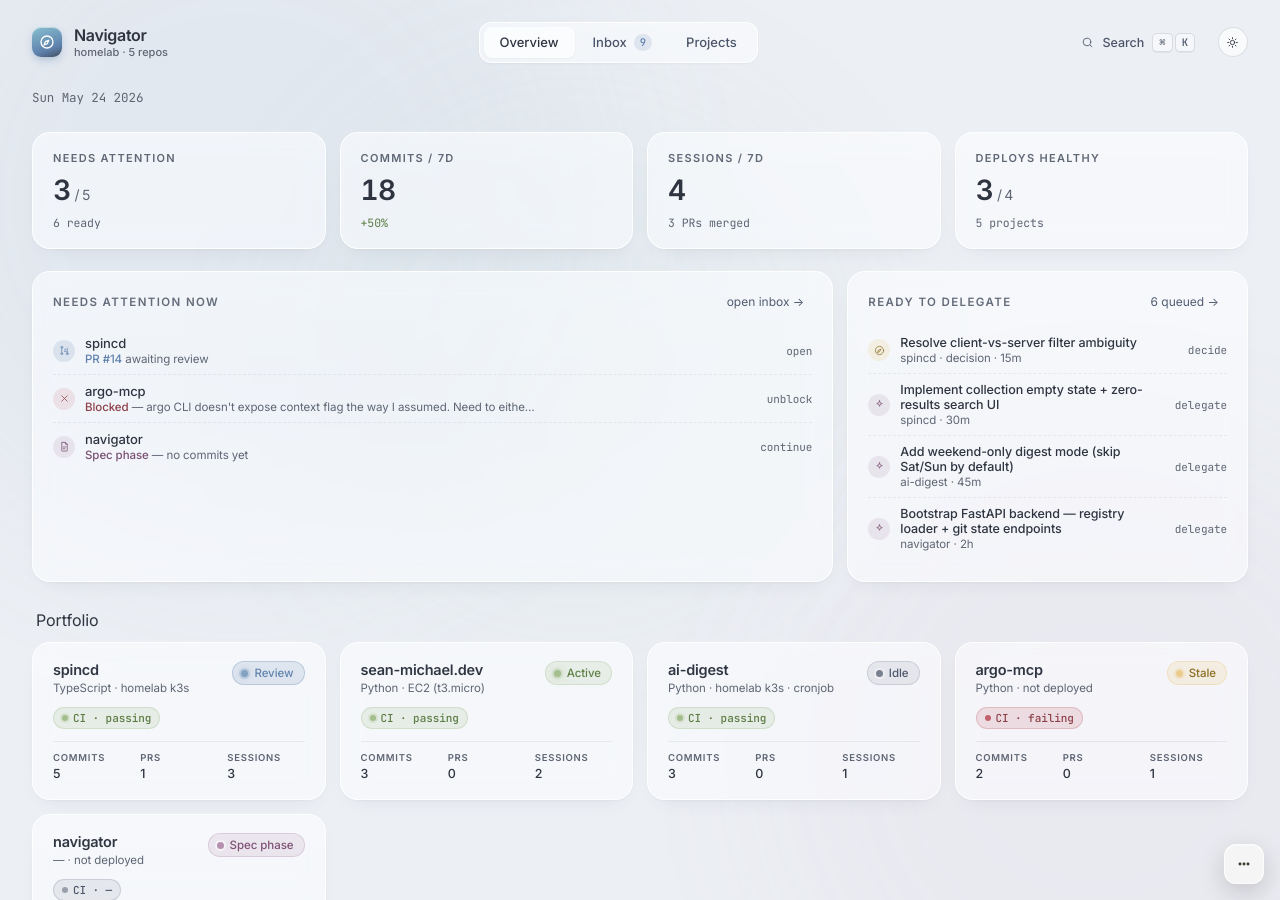
Test: App › opens the command palette with Cmd+K
This screenshot has width=1280, height=900.
Type keys "{Meta>}k{/Meta}"
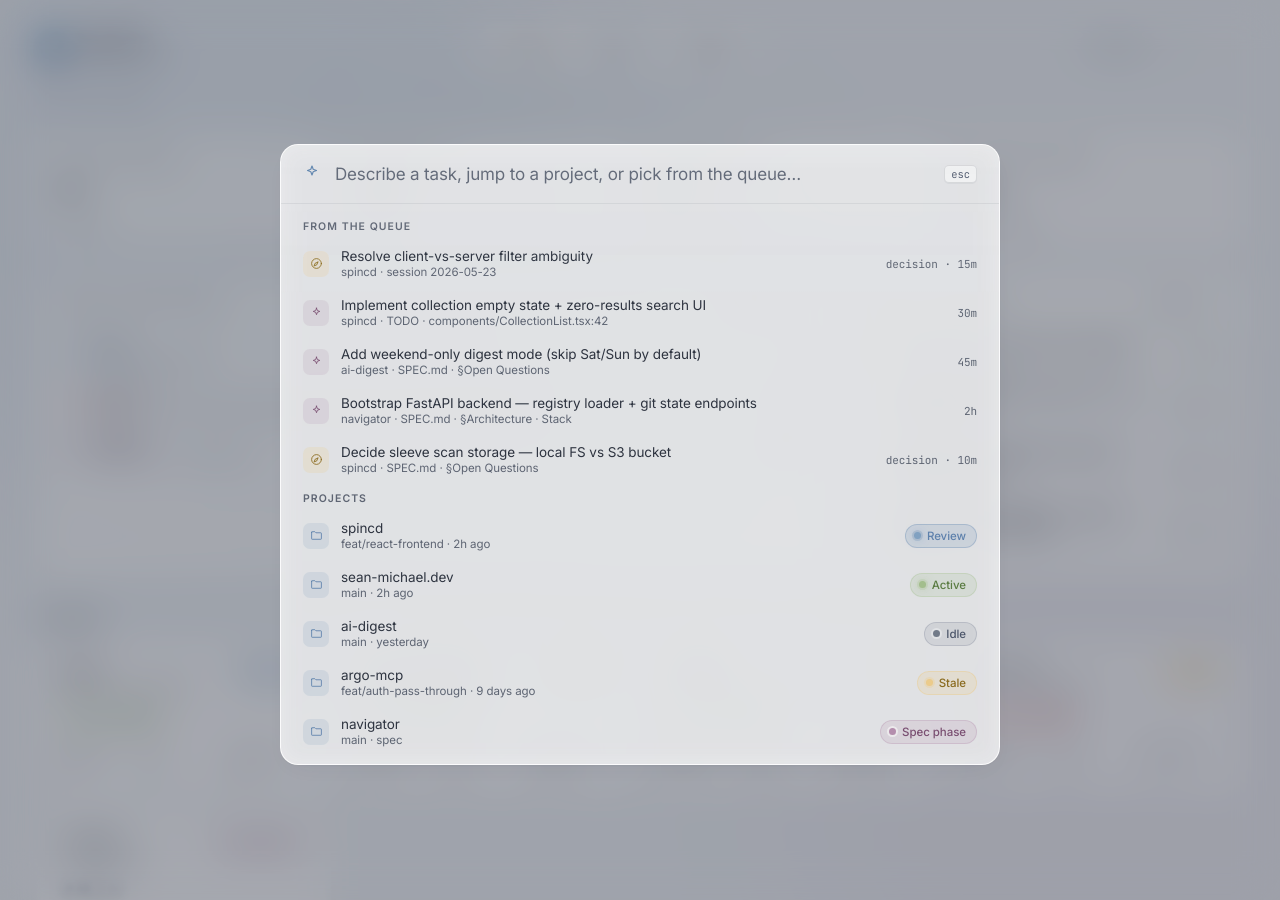
Check: the field with placeholder "Describe a task, jump to a project, or pick from the queue…" is shown
# delegating a task opens the enriched preview modal
Type "add label filtering to search" into the field with placeholder "Describe a task, jump to a project, or pick from the queue…".
click(633, 174); type("add label filtering to search")  # box [333,163,932,185]
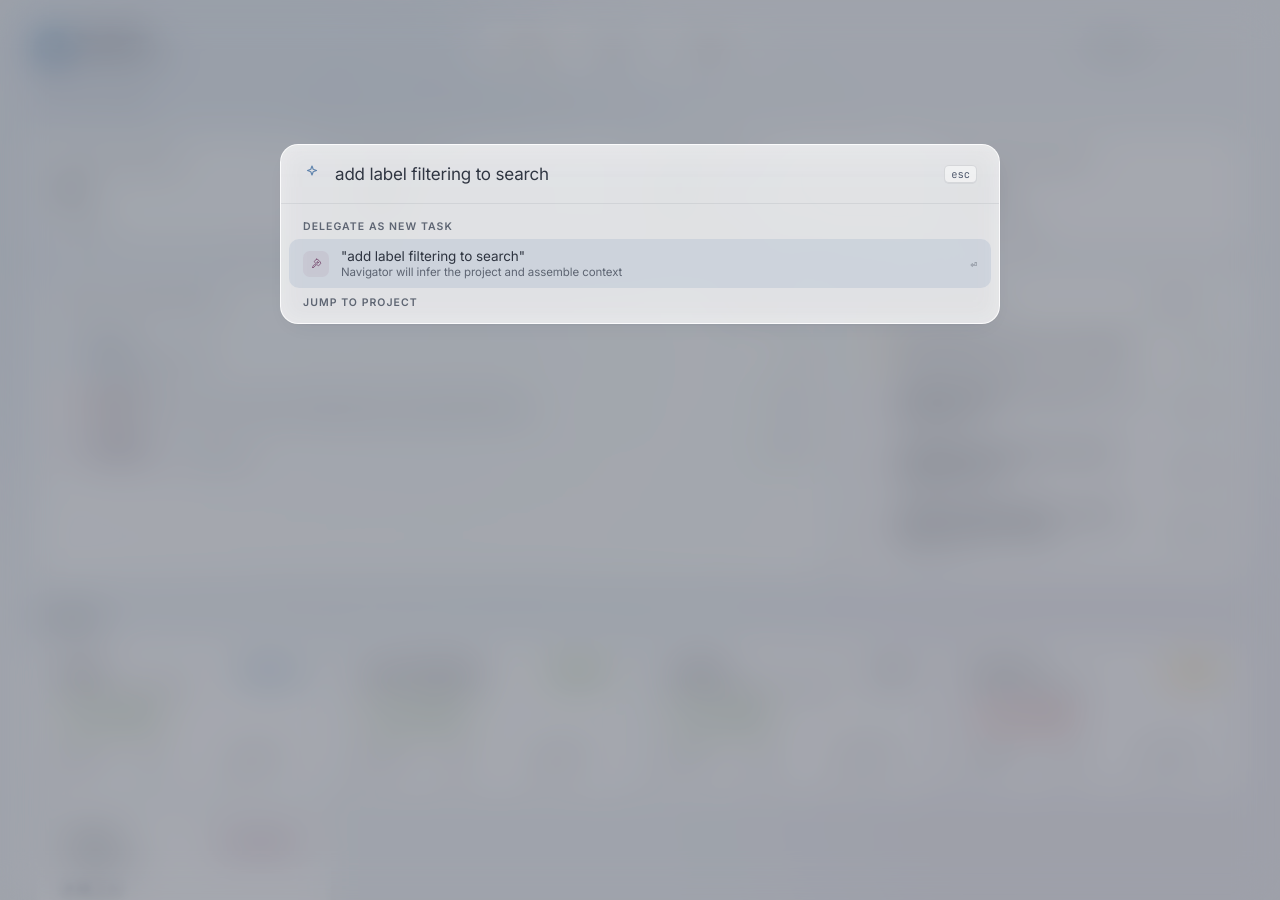
Press Enter
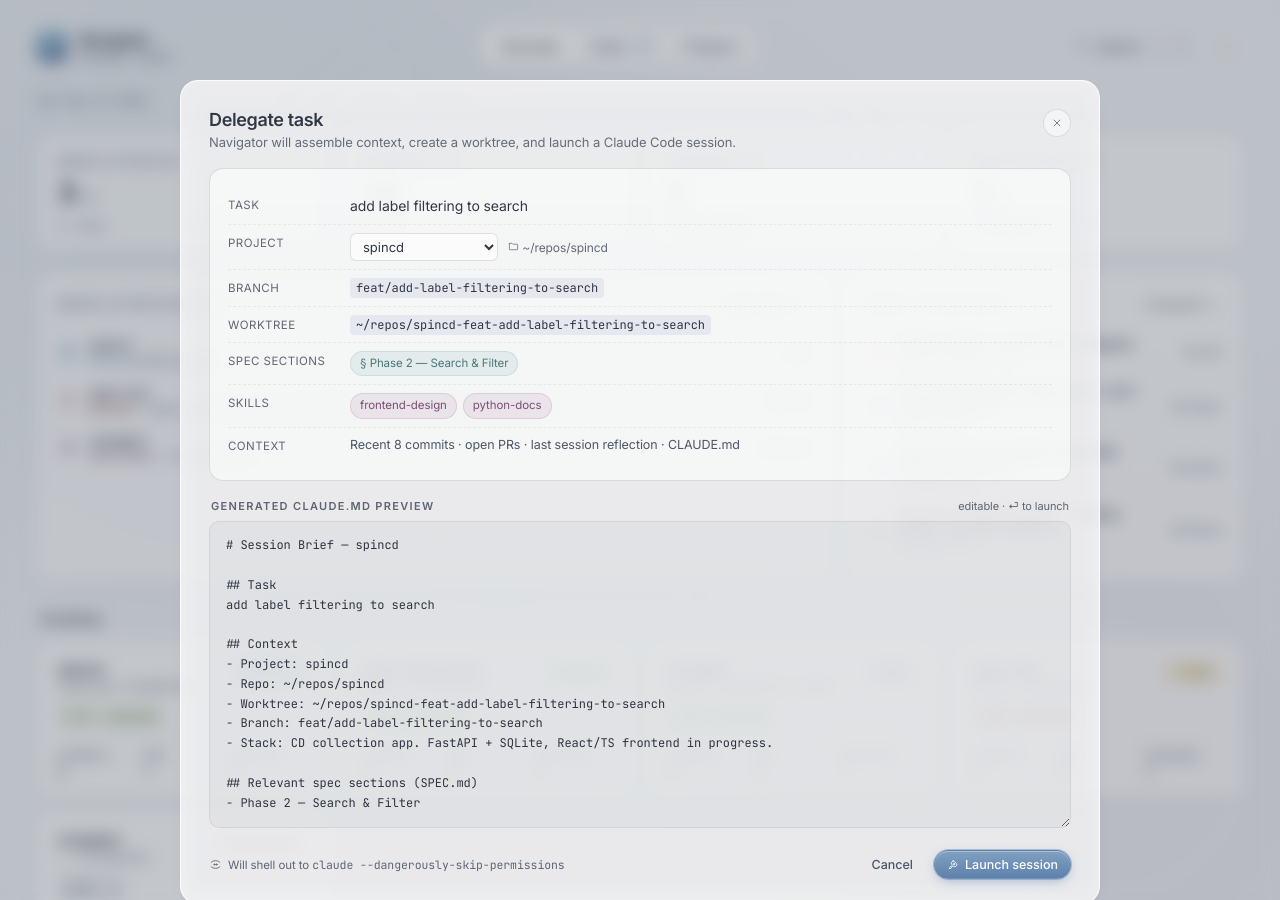
Check: the heading "Delegate task" is shown, box [209,109,323,130]
